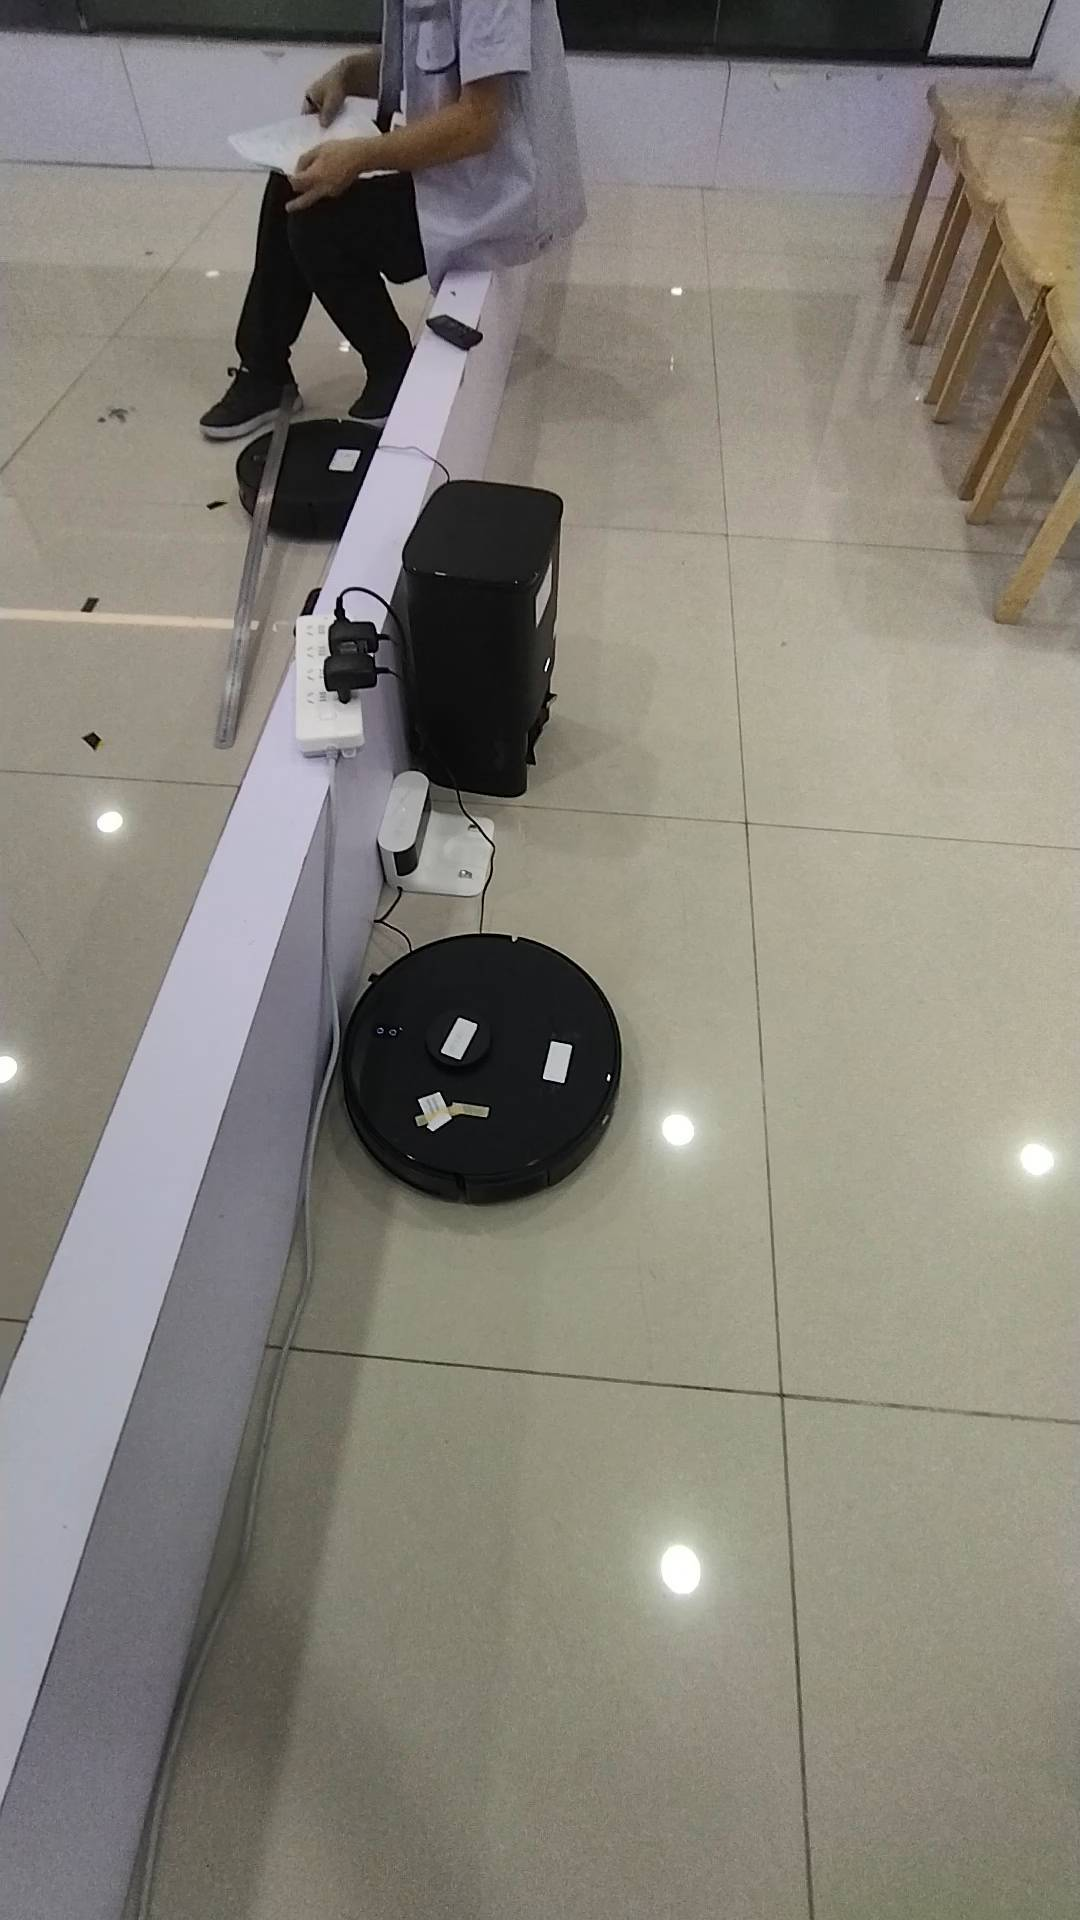dust collecting barrel: (404, 480, 566, 798)
recharge seat: (376, 771, 502, 895)
